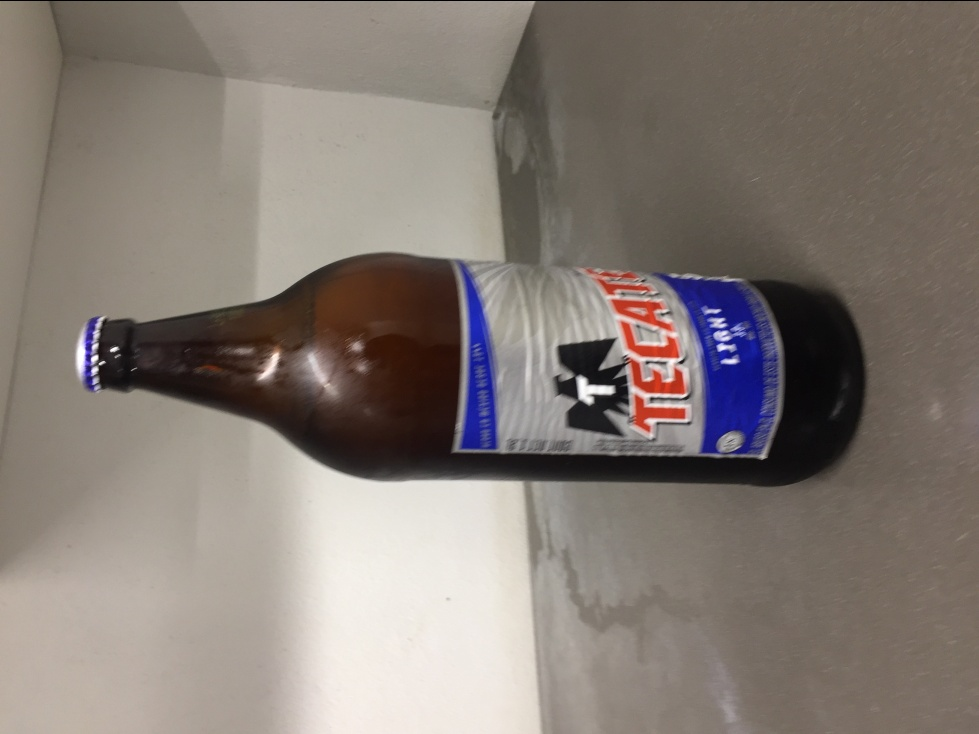tecateC: (66, 249, 871, 491)
